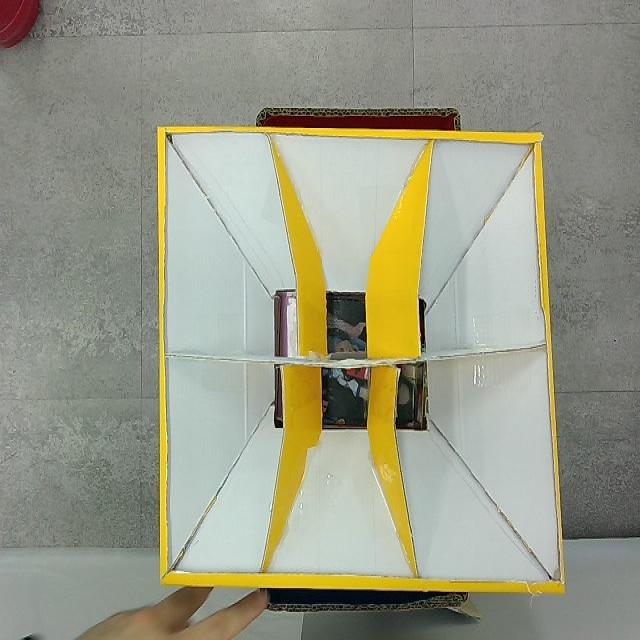box: (157, 107, 566, 597)
